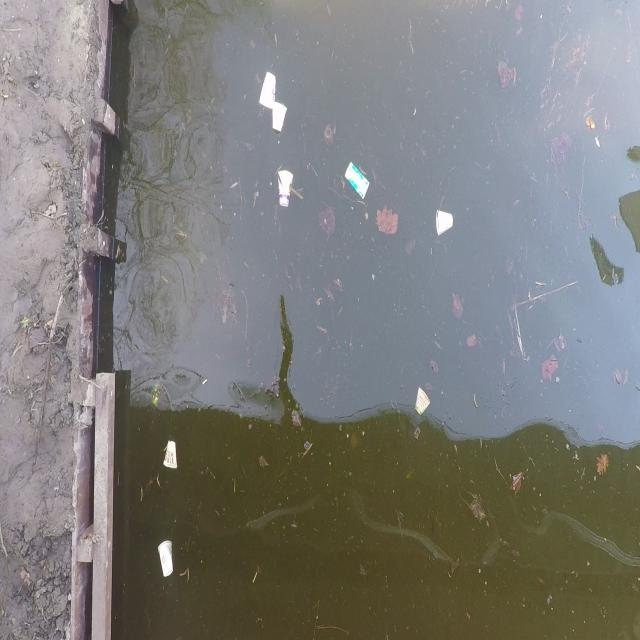Non plastique: (272, 167, 300, 218), (344, 156, 371, 204), (154, 536, 179, 586), (158, 437, 185, 480), (256, 67, 280, 115), (412, 381, 436, 422), (269, 97, 289, 144), (432, 205, 458, 237)
